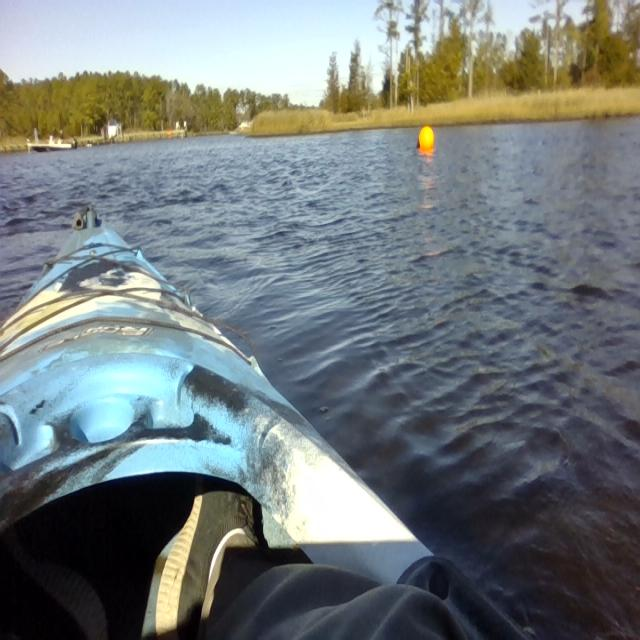Buoy: (414, 122, 438, 158)
